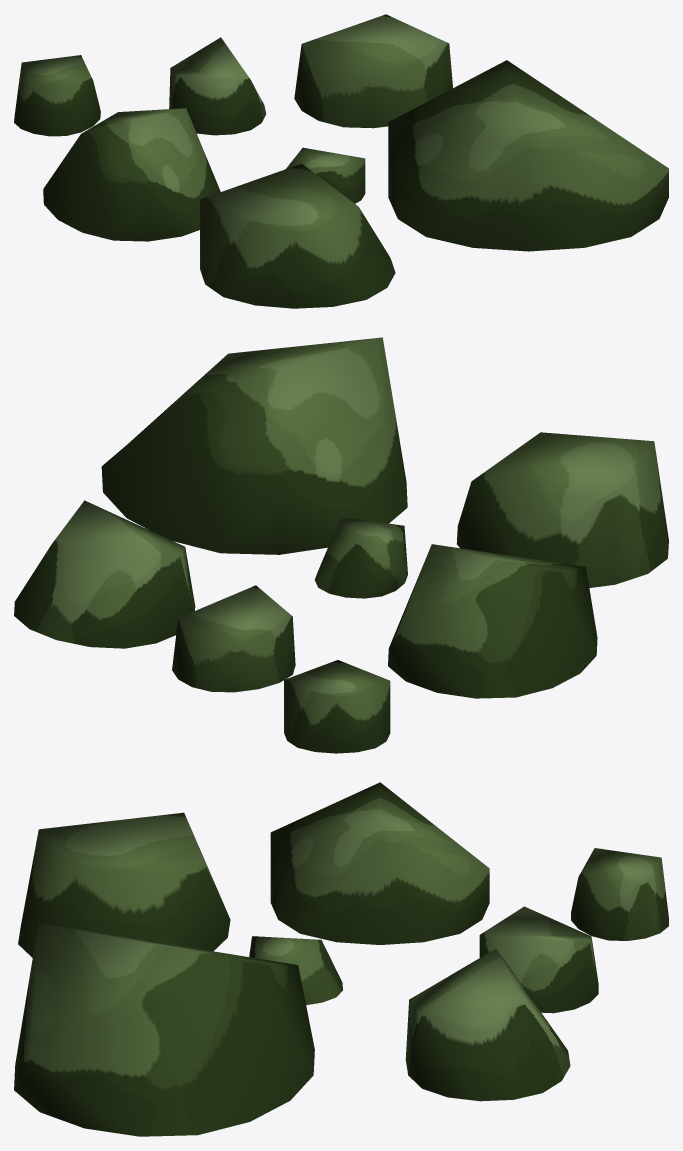
The model's file is Rock 6x 6 7_preview_3DS_simplified.glb.
3 views of the same model, one above another, from view 1: azimuth 30°, elevation 25°; view 2: azimuth 150°, elevation 25°; view 3: azimuth 270°, elevation 25° (orthographic). The views are drawn at different scales.
Visible parts, largest first — view 1: Marine Park Empire model; view 2: Marine Park Empire model; view 3: Marine Park Empire model.
Part boxes in pixels (x1=…): Marine Park Empire model: x1=14, y1=14, x2=668, y2=308; Marine Park Empire model: x1=14, y1=337, x2=668, y2=753; Marine Park Empire model: x1=14, y1=782, x2=668, y2=1136.
Bounding box in the file's own units: 179 × 35.32 × 180.
Materials: 1 (1 with a texture image).
